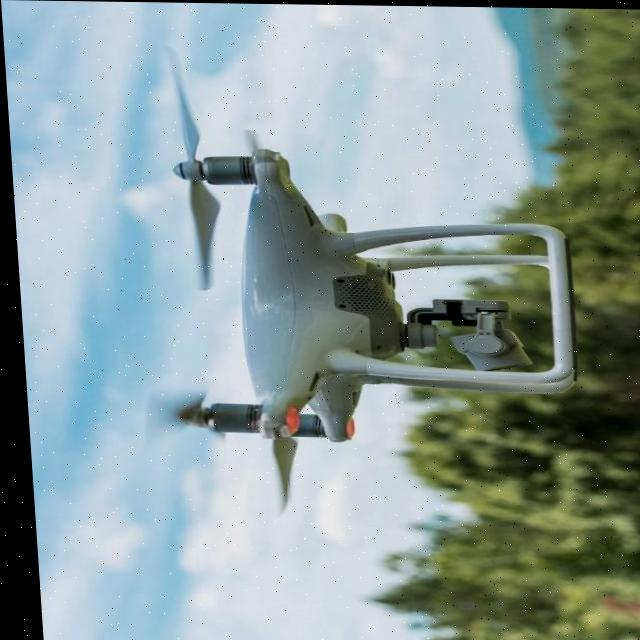drone: (115, 99, 530, 540)
